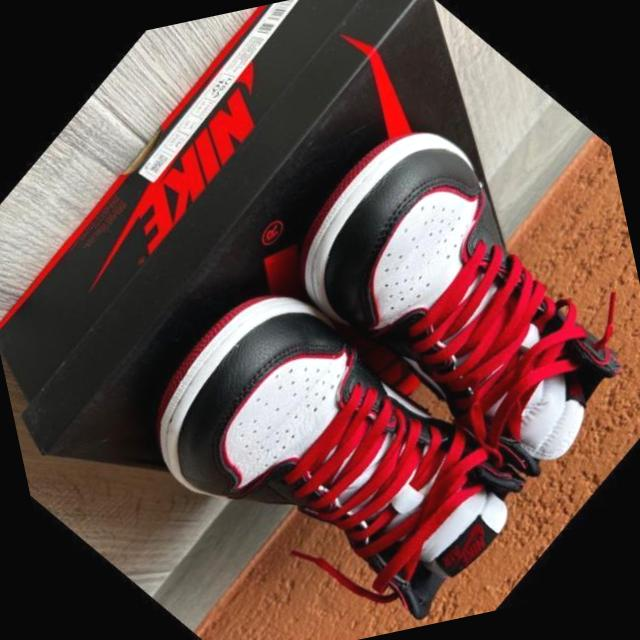nike_original_jordan: (89, 212, 568, 640), (237, 64, 640, 542)
